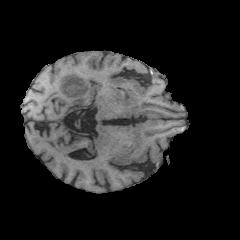glioma: (59, 71, 92, 97)
